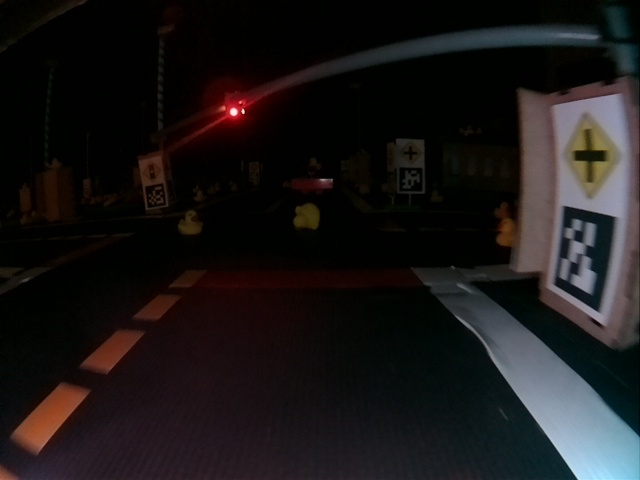Duckie: (294, 204, 322, 230), (179, 211, 205, 238), (495, 221, 518, 249)
Intersection sign: (558, 110, 624, 199), (397, 140, 421, 165)
QR code: (550, 209, 621, 313), (400, 168, 418, 194), (145, 186, 166, 207)
Signal sign: (138, 158, 162, 181)
Traffic light: (226, 96, 245, 122)
